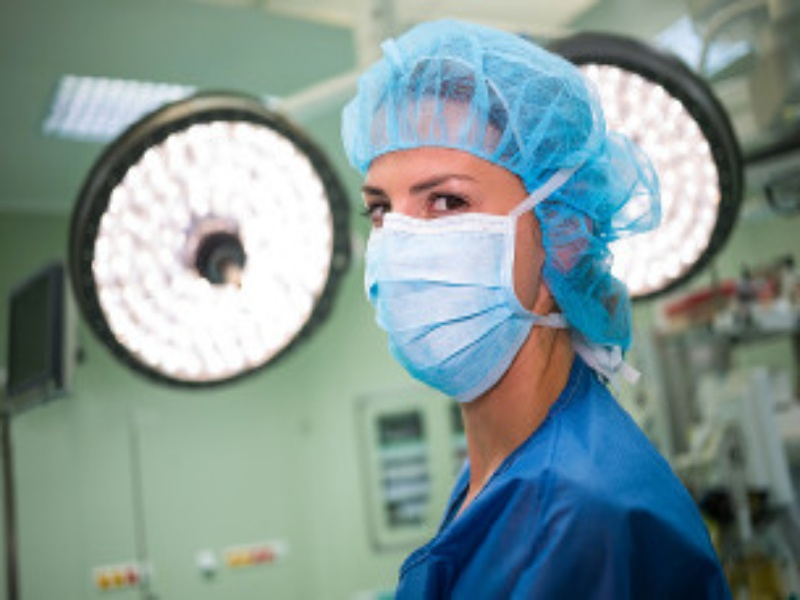mask: (333, 37, 619, 392)
